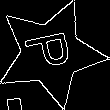P_E: (21, 29, 81, 77)
